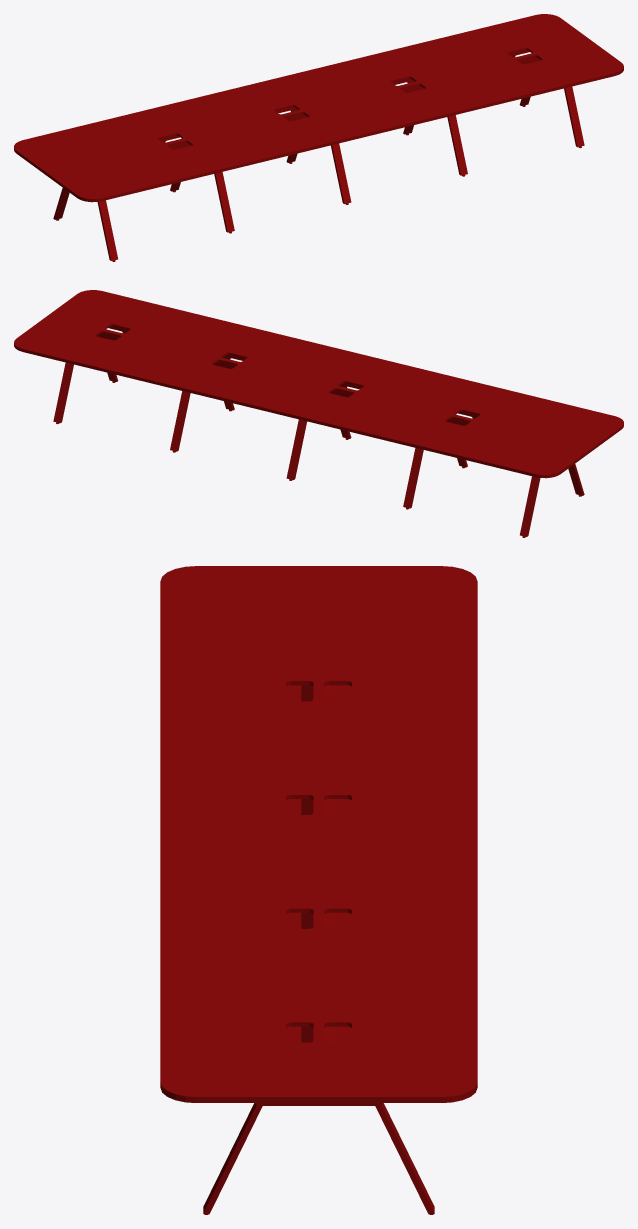
3 renders of one model, top to bottom at view 1: azimuth 30°, elevation 25°; view 2: azimuth 150°, elevation 25°; view 3: azimuth 270°, elevation 25°, orthographic. The views are drawn at different scales.
Parts seen in each view (by area): view 1: mesh114_mesh114-geometry, mesh113_mesh113-geometry, mesh107_mesh107-geometry, mesh1_mesh1-geometry, mesh3_mesh3-geometry, mesh35_mesh35-geometry, mesh36_mesh36-geometry, mesh67_mesh67-geometry; view 2: mesh113_mesh113-geometry, mesh114_mesh114-geometry, mesh107_mesh107-geometry, mesh1_mesh1-geometry, mesh3_mesh3-geometry, mesh35_mesh35-geometry, mesh36_mesh36-geometry, mesh67_mesh67-geometry; view 3: mesh113_mesh113-geometry, mesh114_mesh114-geometry, mesh107_mesh107-geometry, mesh1_mesh1-geometry, mesh92_mesh92-geometry, mesh67_mesh67-geometry, mesh101_mesh101-geometry.
Part boxes in pixels (box(x1,y1,x2,y2)): mesh114_mesh114-geometry: box(97, 58, 591, 195); mesh113_mesh113-geometry: box(46, 20, 540, 155); mesh107_mesh107-geometry: box(75, 41, 562, 171); mesh1_mesh1-geometry: box(14, 14, 623, 202); mesh3_mesh3-geometry: box(286, 115, 467, 203); mesh35_mesh35-geometry: box(53, 188, 117, 260); mesh36_mesh36-geometry: box(170, 172, 234, 232); mesh67_mesh67-geometry: box(519, 86, 584, 147); mesh113_mesh113-geometry: box(46, 334, 540, 471); mesh114_mesh114-geometry: box(97, 296, 591, 431); mesh107_mesh107-geometry: box(75, 317, 562, 447); mesh1_mesh1-geometry: box(14, 290, 623, 478); mesh3_mesh3-geometry: box(170, 391, 351, 479); mesh35_mesh35-geometry: box(520, 464, 584, 536); mesh36_mesh36-geometry: box(403, 448, 467, 508); mesh67_mesh67-geometry: box(53, 362, 118, 423); mesh113_mesh113-geometry: box(364, 604, 477, 1058); mesh114_mesh114-geometry: box(160, 604, 273, 1058); mesh107_mesh107-geometry: box(274, 604, 363, 1058); mesh1_mesh1-geometry: box(160, 566, 477, 1102); mesh92_mesh92-geometry: box(286, 799, 351, 1042); mesh67_mesh67-geometry: box(203, 1103, 434, 1213); mesh101_mesh101-geometry: box(286, 685, 351, 701).
Bounding box in the file's own units: 0.9613 × 0.1305 × 0.2426.
